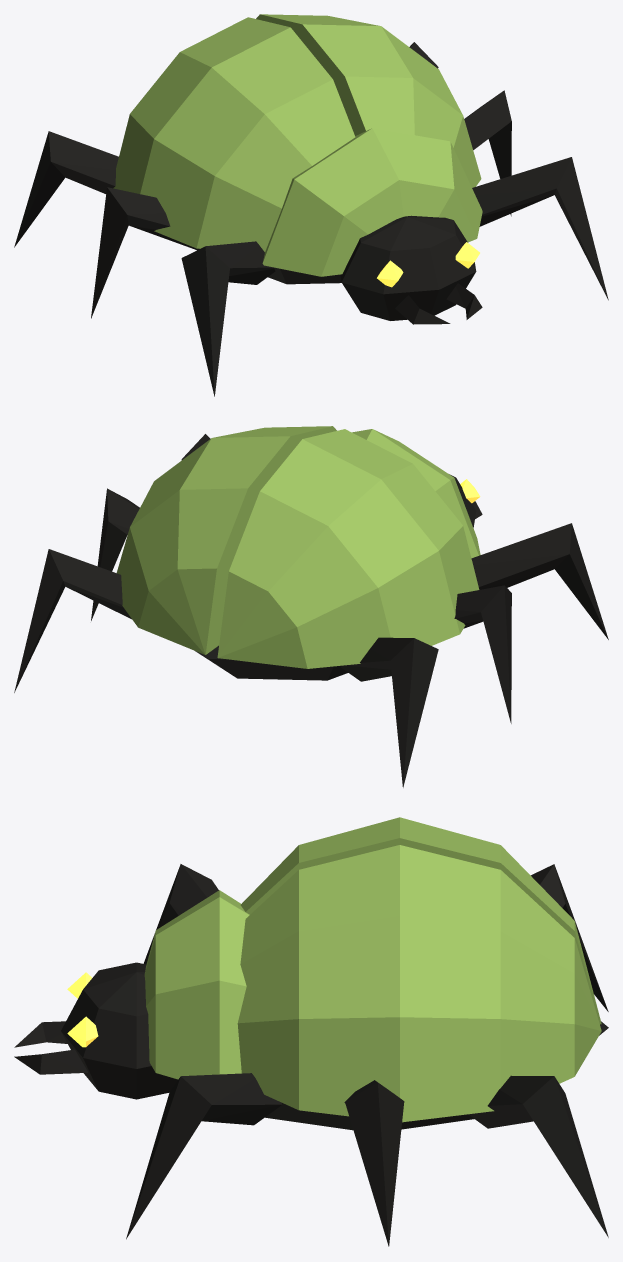
The model's file is Mite.fbx.
3 renders of one model, top to bottom at view 1: azimuth 30°, elevation 25°; view 2: azimuth 150°, elevation 25°; view 3: azimuth 270°, elevation 25°, orthographic. The views are drawn at different scales.
Parts seen in each view (by area): view 1: Shell, LegsR, Head, LegsL, Eyes; view 2: Shell, LegsR, LegsL, Head; view 3: Shell, LegsL, Head, LegsR, Eyes.
Part boxes in pixels (x1,y1,x2,y2): Shell: [113, 14, 482, 276]; LegsR: [14, 131, 275, 396]; Head: [268, 215, 482, 324]; LegsL: [409, 42, 608, 300]; Eyes: [377, 242, 479, 287]; Shell: [116, 426, 480, 668]; LegsR: [341, 523, 608, 787]; LegsL: [14, 434, 210, 692]; Head: [195, 474, 482, 680]; Shell: [144, 817, 601, 1122]; LegsL: [126, 1073, 608, 1246]; Head: [14, 962, 608, 1130]; LegsR: [143, 864, 608, 1011]; Eyes: [67, 972, 98, 1047].
Size of the model in its own units: 3.2 by 1.74 by 3.3.
